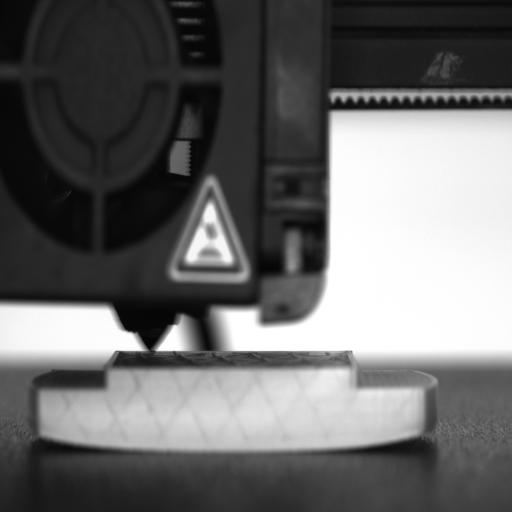warp: (363, 417, 442, 449), (26, 424, 110, 452)
